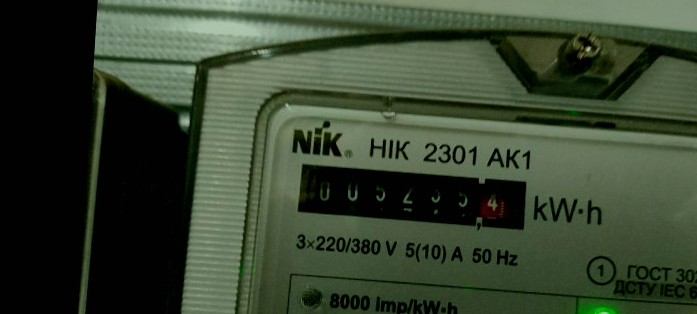0: (315, 176, 333, 203), (344, 176, 360, 202)
2: (399, 178, 415, 204)
3: (427, 178, 443, 204)
4: (484, 186, 500, 213)
5: (454, 181, 471, 209), (371, 177, 388, 204)
screen: (287, 153, 539, 238)
